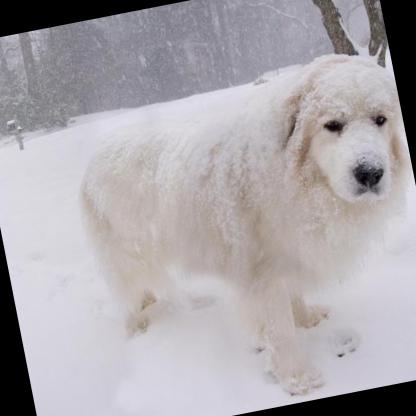Great_Pyrenees: (61, 46, 416, 416)
